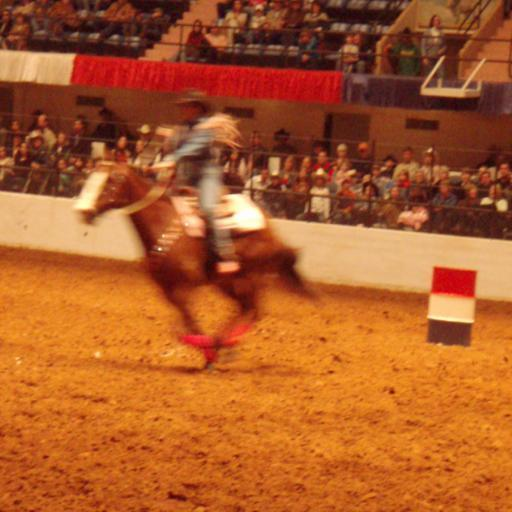horse: (70, 156, 316, 368)
